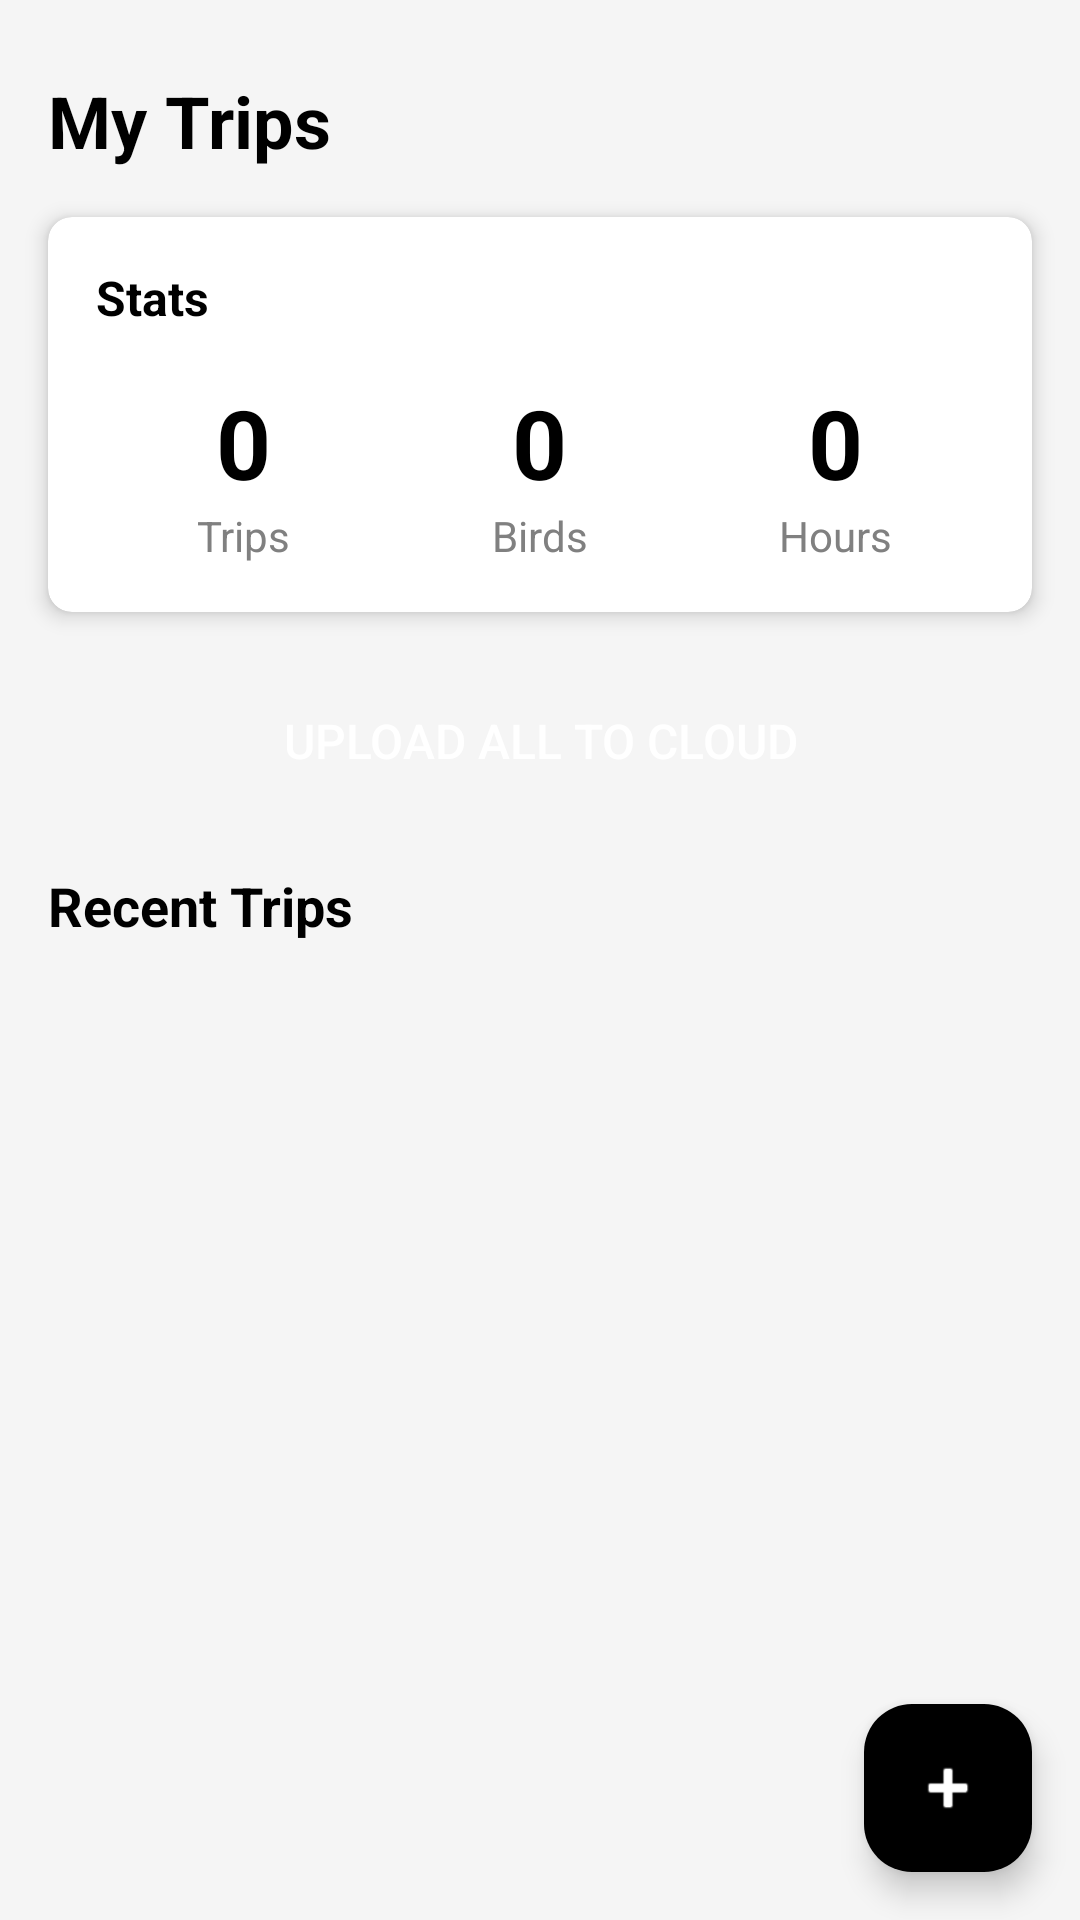

Where icons sit on this 1080px x 1920px app screen, as (x1, y1, x2, y2):
Add Trip: (864, 1704, 1032, 1872)
